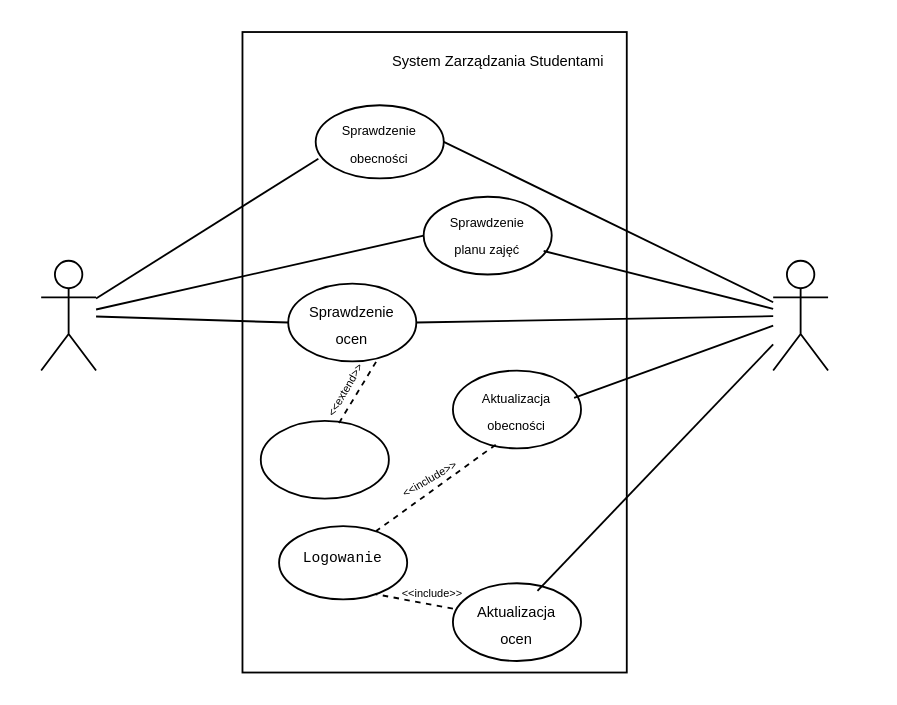
This 897x705 diagram has some shape labels left out. The shapes that lost their labels are listed below. From the top down, each one's centre as x and y in pixels, then its label:
[67,315]: Student
[799,315]: Wykładowca
[324,459]: Pobierz oświadczenie
